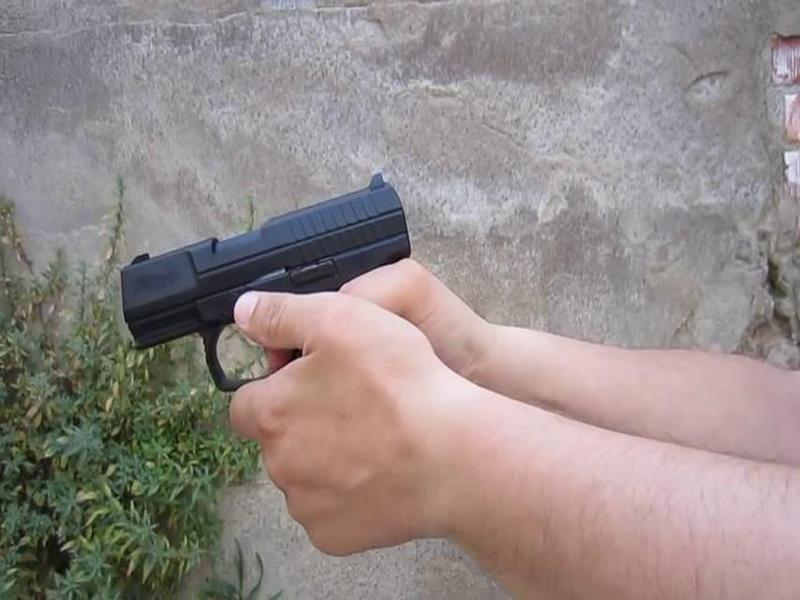Pistola: (98, 162, 427, 397)
